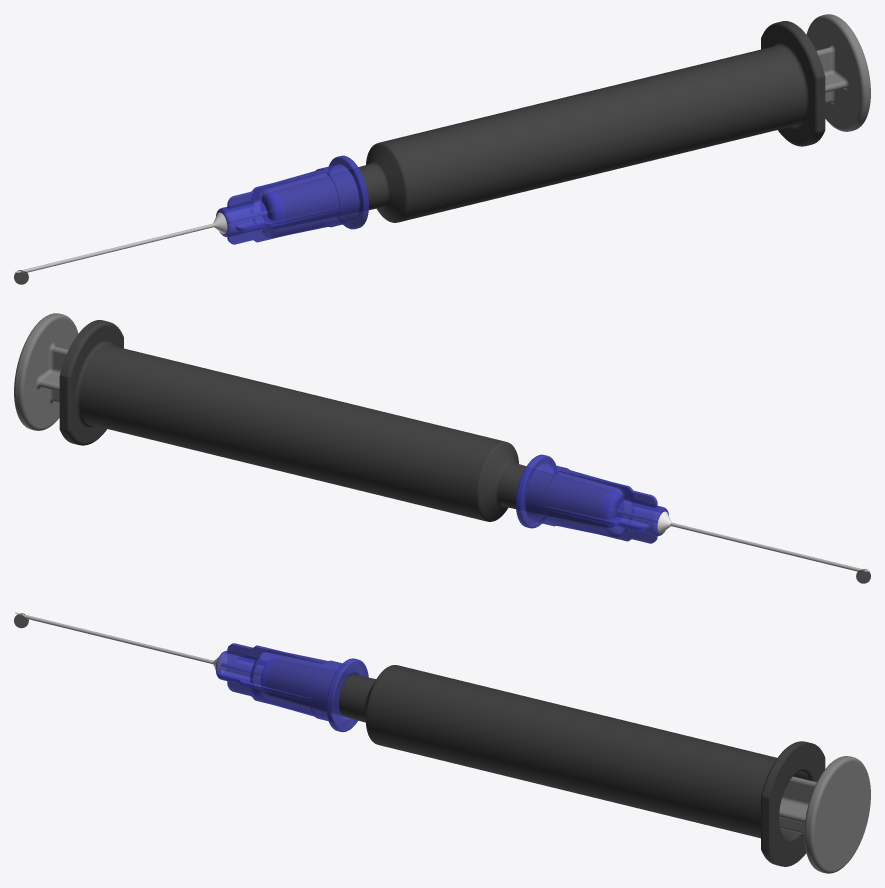
The model's file is _Syringe-Assembly.FBX.
3 views of the same model, one above another, from view 1: azimuth 30°, elevation 25°; view 2: azimuth 150°, elevation 25°; view 3: azimuth 330°, elevation 25° (orthographic).
Parts seen in each view (by area): view 1: Syringe, Adapter, Plunger, Needle; view 2: Syringe, Adapter, Plunger, Needle; view 3: Syringe, Plunger, Adapter, Needle.
Part boxes in pixels (<box>): Syringe: <box>274,21,825,227</box>; Adapter: <box>216,155,368,244</box>; Plunger: <box>806,14,870,131</box>; Needle: <box>15,223,214,272</box>; Syringe: <box>59,320,610,526</box>; Adapter: <box>516,454,668,543</box>; Plunger: <box>14,313,78,430</box>; Needle: <box>670,522,869,571</box>; Syringe: <box>267,660,825,866</box>; Plunger: <box>779,756,870,873</box>; Adapter: <box>215,643,368,732</box>; Needle: <box>15,612,213,664</box>.
Size of the model in its own units: 5.04 by 0.6693 by 0.6299.
